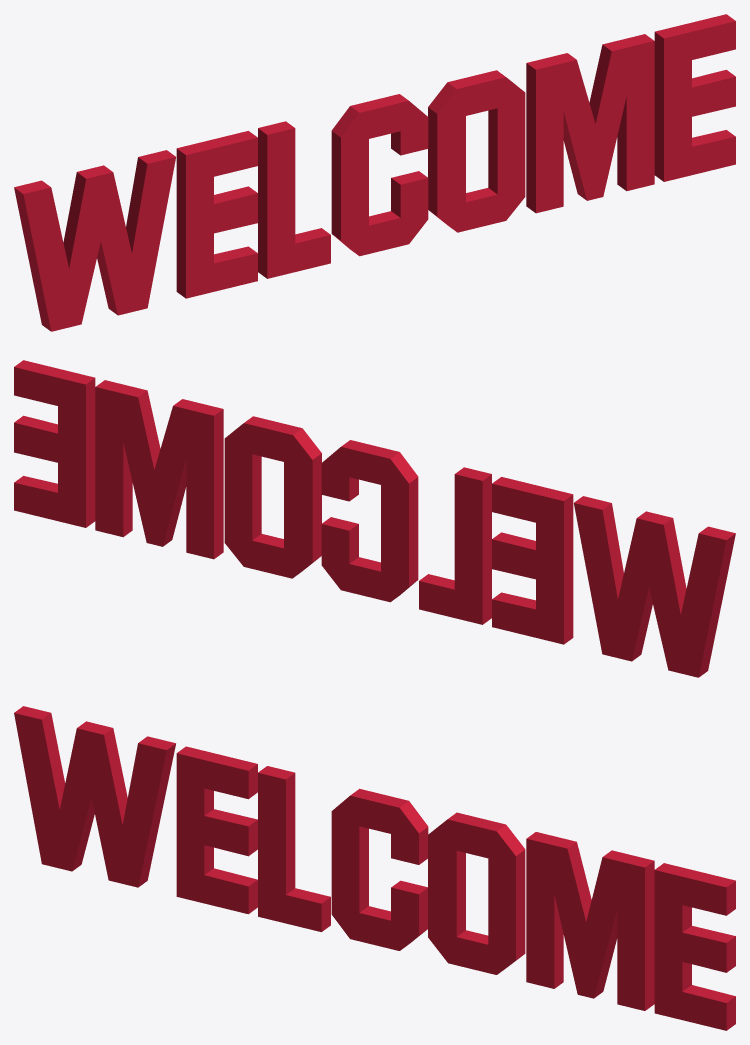
File: welcome-portal-sign.fbx
The picture shows the model from 3 angles, top to bottom: view 1: azimuth 30°, elevation 25°; view 2: azimuth 150°, elevation 25°; view 3: azimuth 330°, elevation 25°; orthographic projection.
Parts seen in each view (by area): view 1: Text; view 2: Text; view 3: Text.
Part boxes in pixels (left/top/right/bottom): Text: left=14, top=14, right=735, bottom=331; Text: left=14, top=360, right=735, bottom=677; Text: left=14, top=706, right=735, bottom=1030.
Size of the model in its own units: 514 by 99.65 by 11.8.
